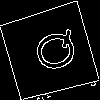Q: (24, 26, 81, 77)
